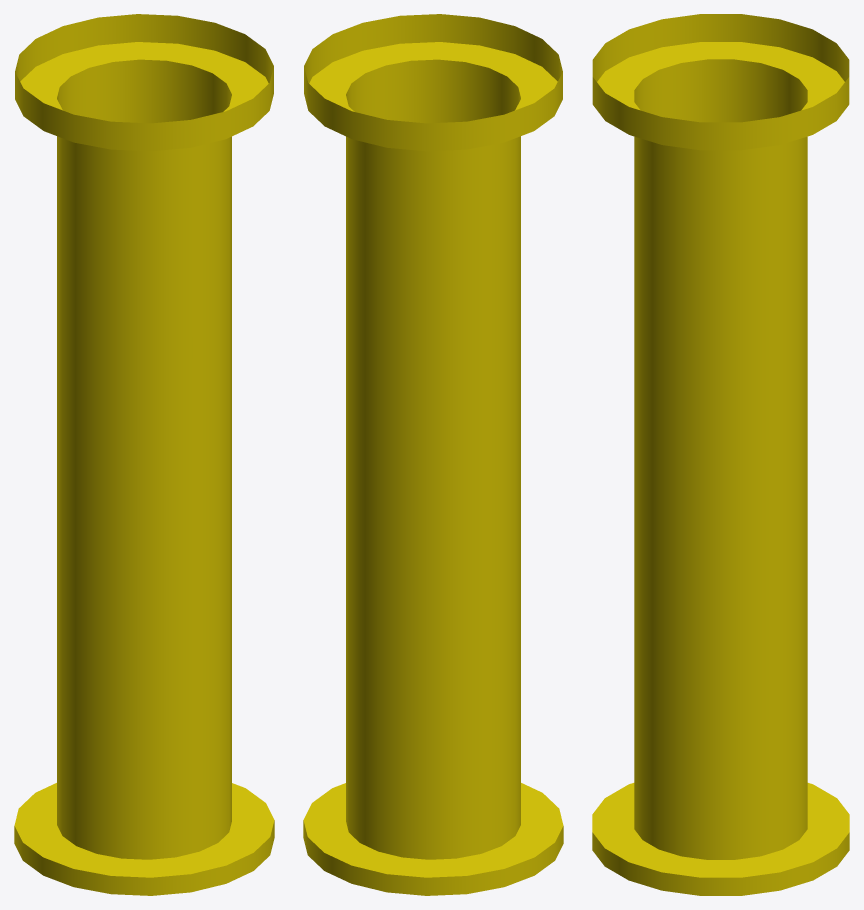
File: Supports.fbx
3 renders of one model, left to right at view 1: azimuth 30°, elevation 25°; view 2: azimuth 150°, elevation 25°; view 3: azimuth 270°, elevation 25°, orthographic.
Parts seen in each view (by area): view 1: Supports; view 2: Supports; view 3: Supports.
Boxes of the visible parts, x1,y1,x2,y2 form: Supports: (14,14,274,895); Supports: (303,14,563,895); Supports: (592,14,849,895).
Bounding box in the file's own units: 13.45 × 44.55 × 13.45.
